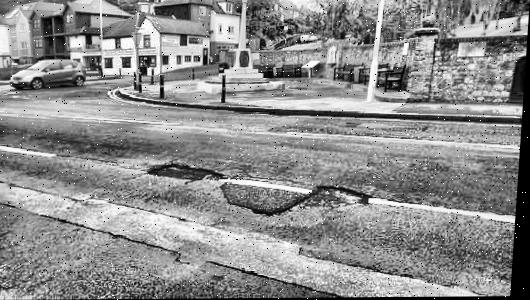pothole: (307, 183, 375, 208), (147, 162, 225, 183)
